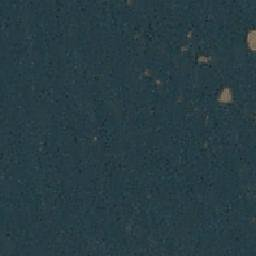debris: (216, 87, 236, 106), (246, 29, 256, 52), (195, 57, 213, 65)
